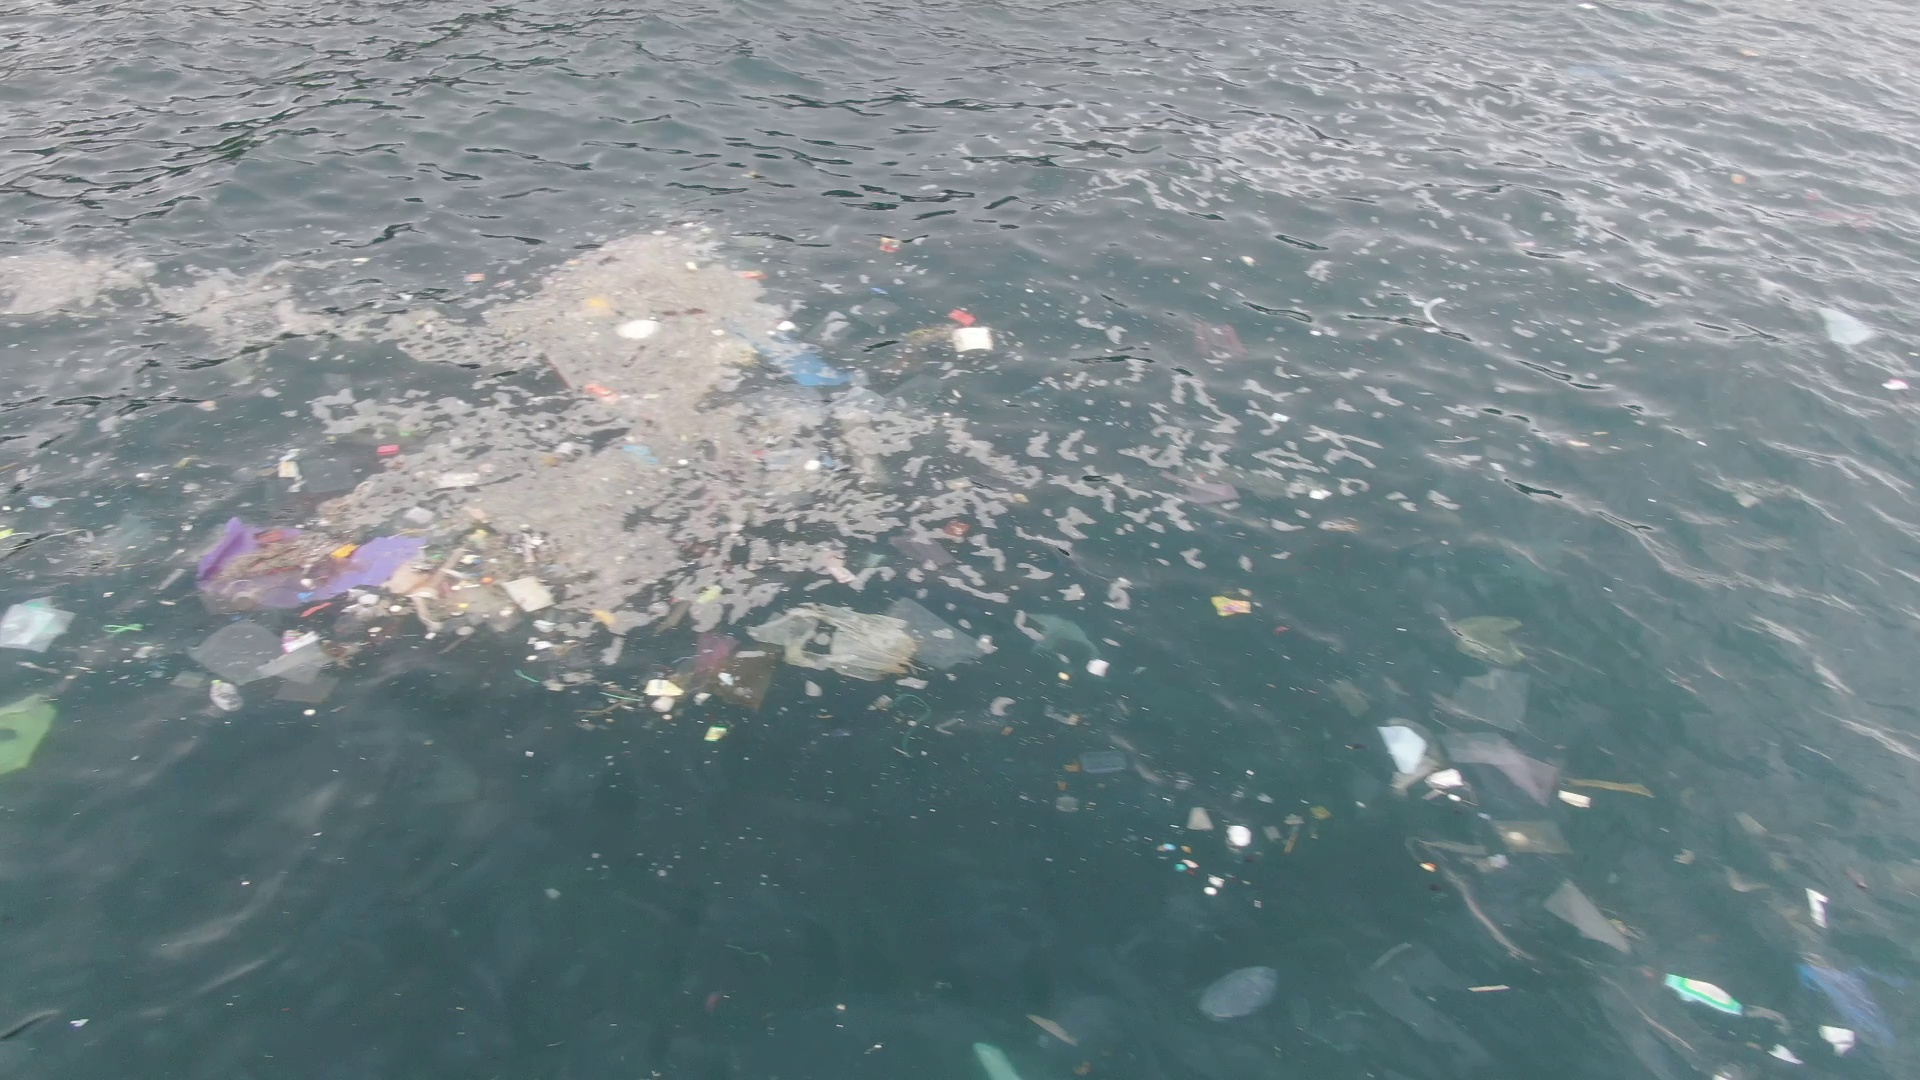bottle: (208, 679, 244, 709)
garbage: (196, 501, 629, 669), (746, 599, 1001, 682), (1377, 716, 1555, 808), (686, 633, 777, 741), (721, 318, 855, 385), (516, 673, 683, 716), (1545, 880, 1630, 957), (1431, 669, 1528, 731), (1, 592, 75, 659), (1195, 965, 1283, 1021), (898, 309, 997, 353), (1455, 612, 1526, 665), (1664, 972, 1745, 1018), (1023, 611, 1100, 658), (3, 699, 55, 767), (1487, 818, 1576, 858), (1266, 802, 1335, 852), (884, 694, 934, 756), (1815, 302, 1876, 349), (1188, 315, 1250, 363), (971, 1038, 1021, 1080), (576, 380, 665, 404), (1563, 775, 1656, 796), (1060, 748, 1135, 773), (1816, 1022, 1859, 1060), (1801, 886, 1834, 934), (1029, 1011, 1073, 1044), (1207, 593, 1253, 622), (612, 313, 658, 342), (1185, 803, 1217, 833), (372, 436, 406, 458), (274, 459, 309, 480), (1557, 789, 1592, 810), (1226, 824, 1255, 847), (460, 268, 493, 284), (877, 235, 902, 255), (1168, 858, 1201, 873), (1205, 876, 1229, 895), (737, 266, 769, 281), (1056, 795, 1077, 814), (1087, 659, 1110, 675), (1730, 171, 1745, 186)
